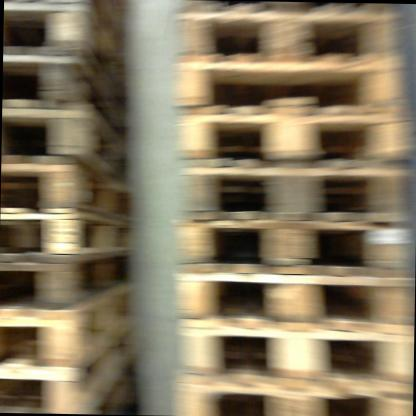pallet: (176, 145, 408, 216), (179, 263, 408, 333), (184, 97, 413, 166), (181, 211, 407, 275), (163, 324, 409, 379), (0, 279, 142, 374), (163, 54, 400, 110), (4, 1, 142, 88), (0, 248, 145, 329), (0, 328, 136, 411), (3, 50, 136, 131), (159, 18, 401, 62), (165, 373, 412, 416), (4, 108, 141, 182), (2, 151, 131, 228), (2, 213, 142, 273)
